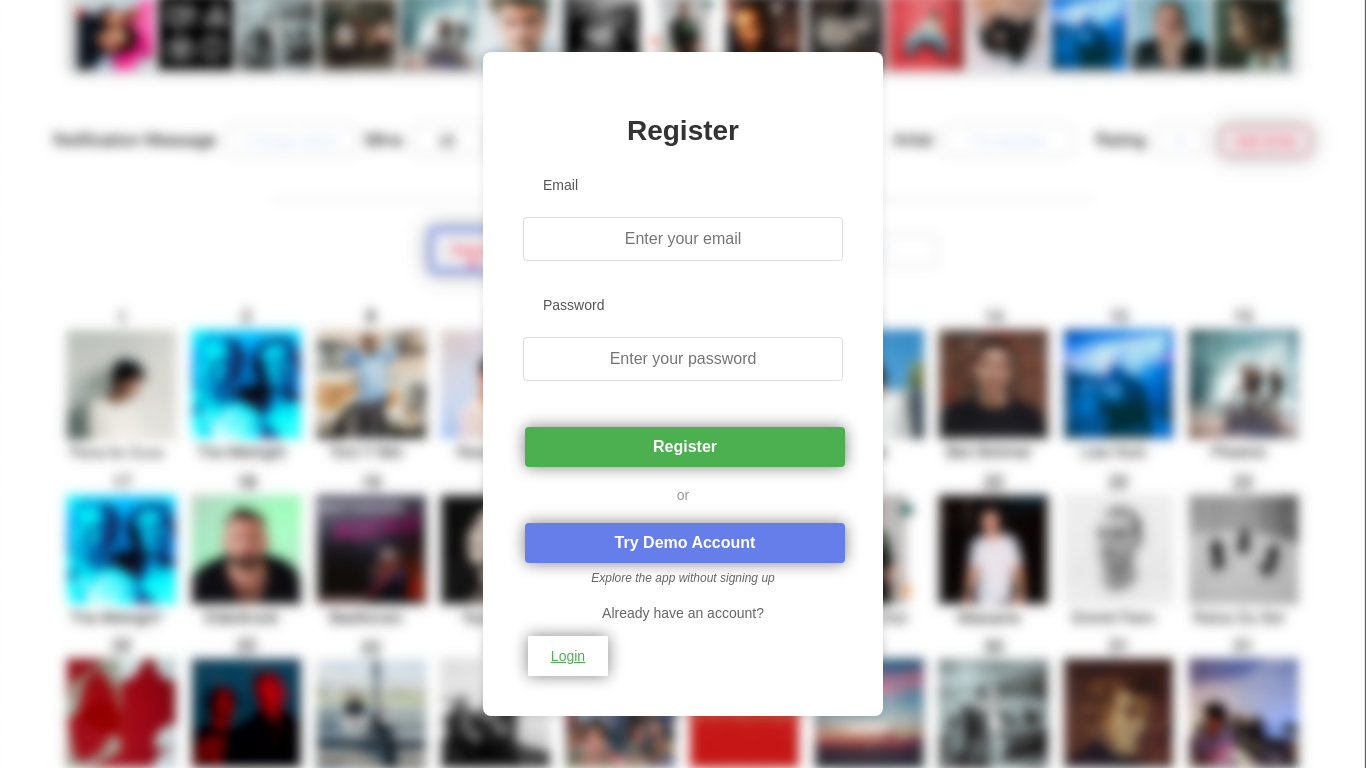
Auth › switches to Login mode, clearing the form and hiding the demo option
Type "a@b.com" into the field with placeholder "Enter your email" at (683, 239), box top-left (523, 217), bottom-right (843, 261)
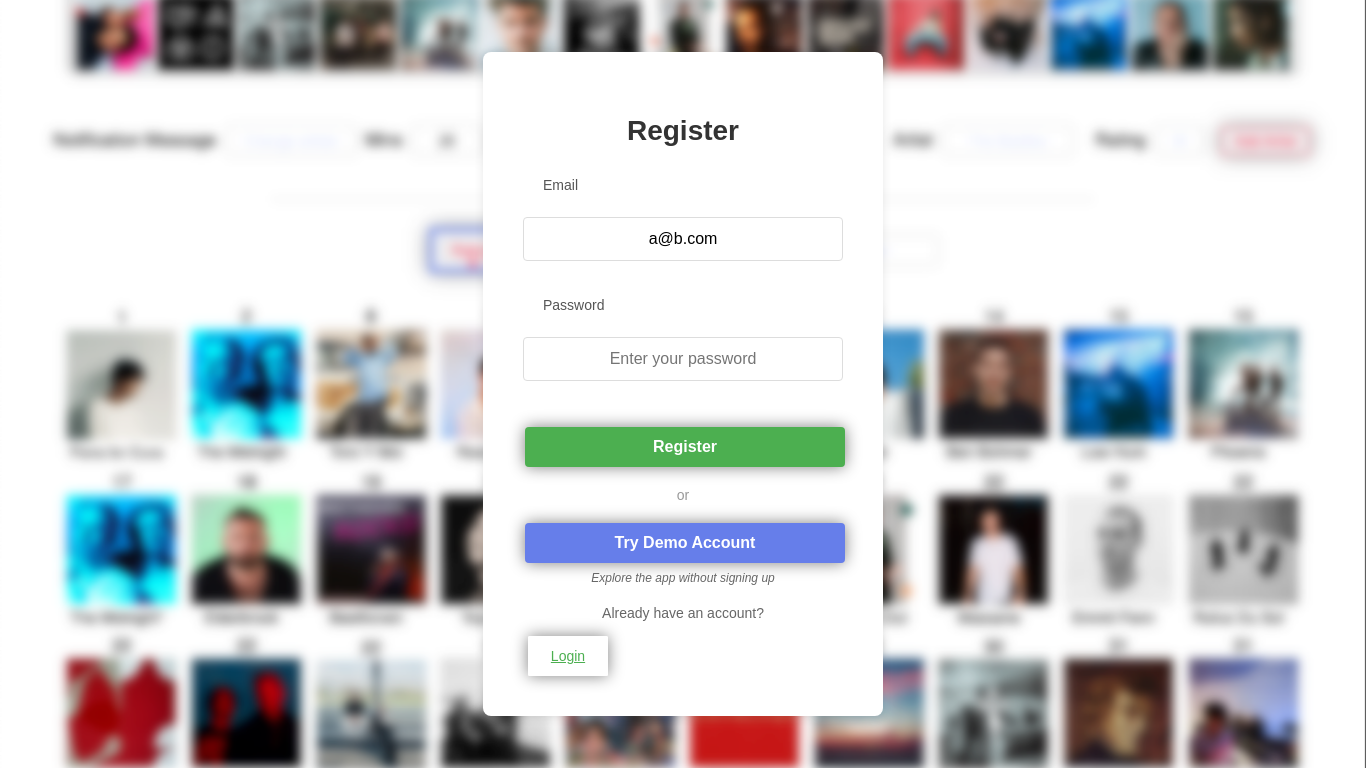
Type "secret1" into the password field with placeholder "Enter your password" at (683, 359), box top-left (523, 337), bottom-right (843, 381)
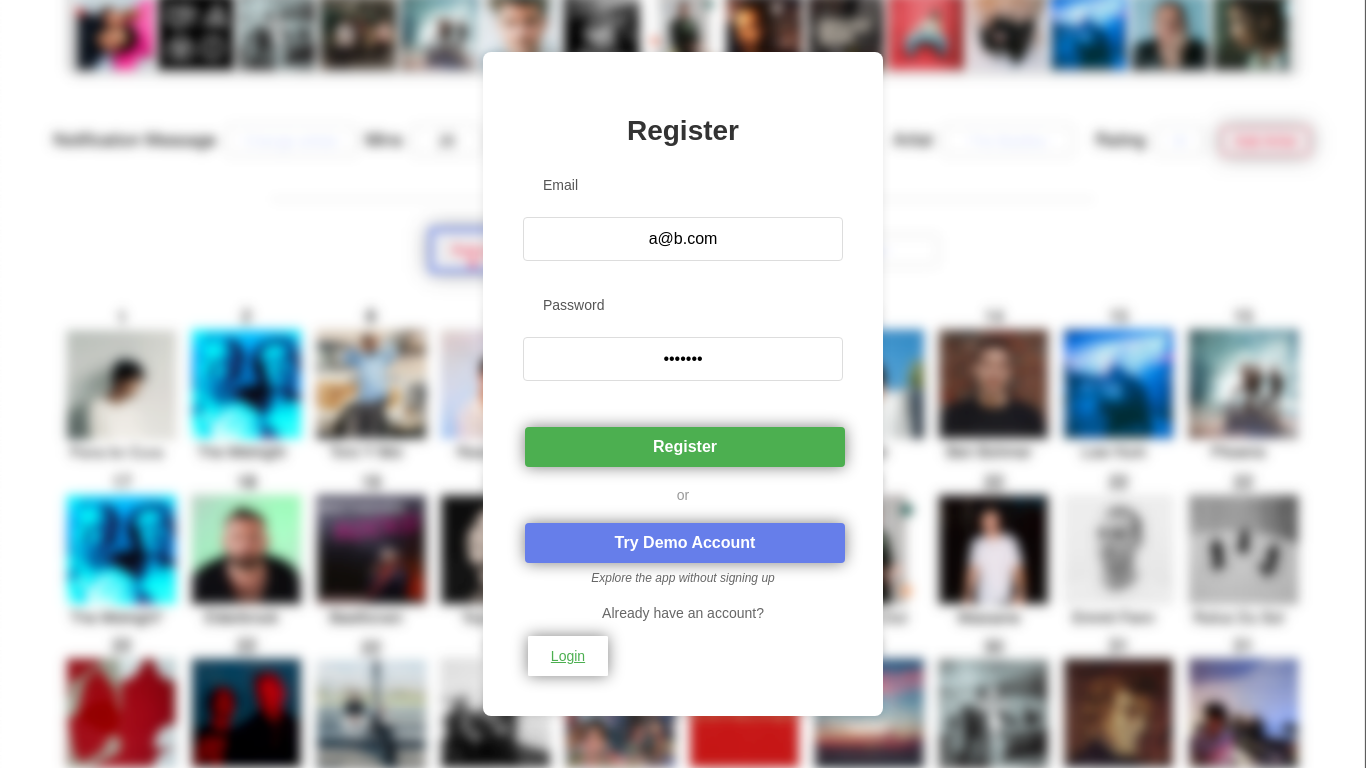
Click the button "Login" at (568, 656), box top-left (528, 636), bottom-right (608, 676)
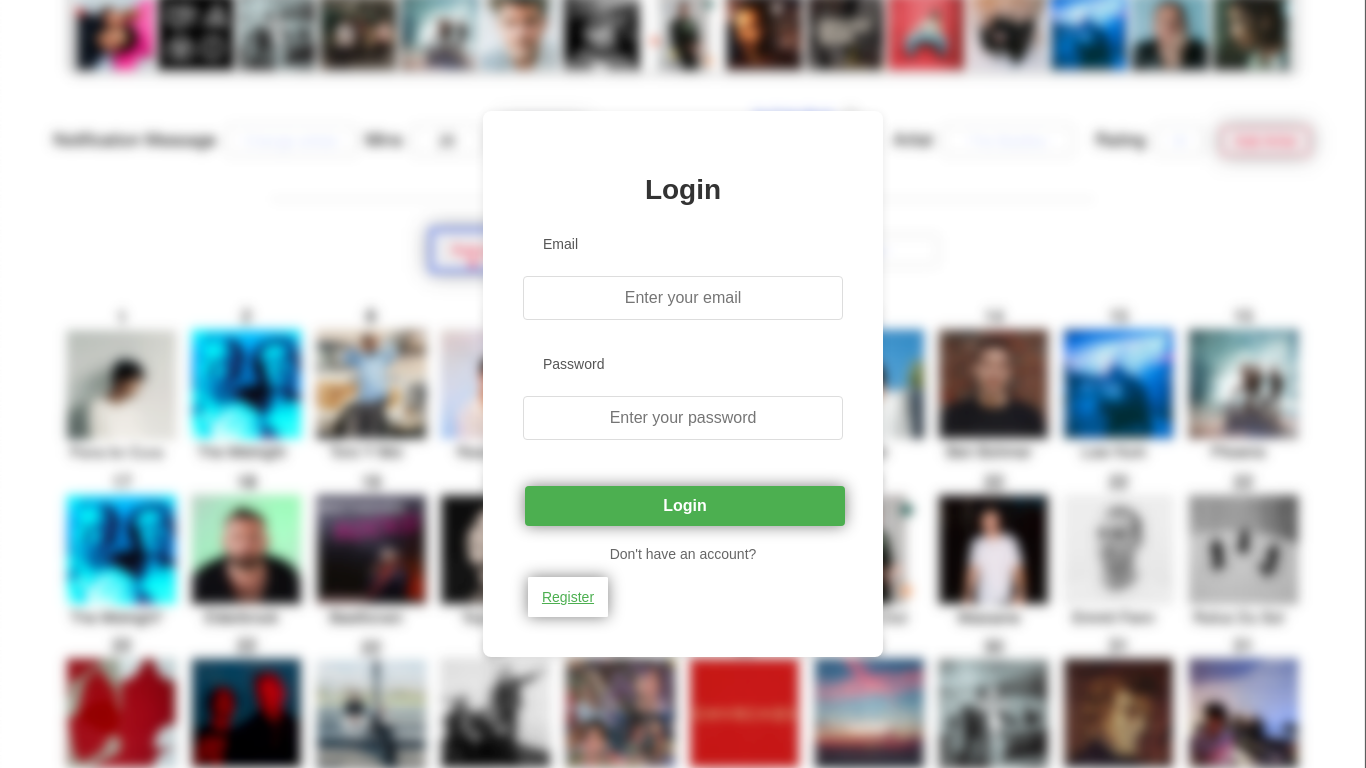
Expected: the heading "Login" is shown, top-left (645, 174), bottom-right (721, 205)
Expected: the field with placeholder "Enter your email" is empty, top-left (523, 276), bottom-right (843, 320)
Expected: the button "Try Demo Account" is gone
Click the button "Register" at (568, 597), box top-left (528, 577), bottom-right (608, 617)
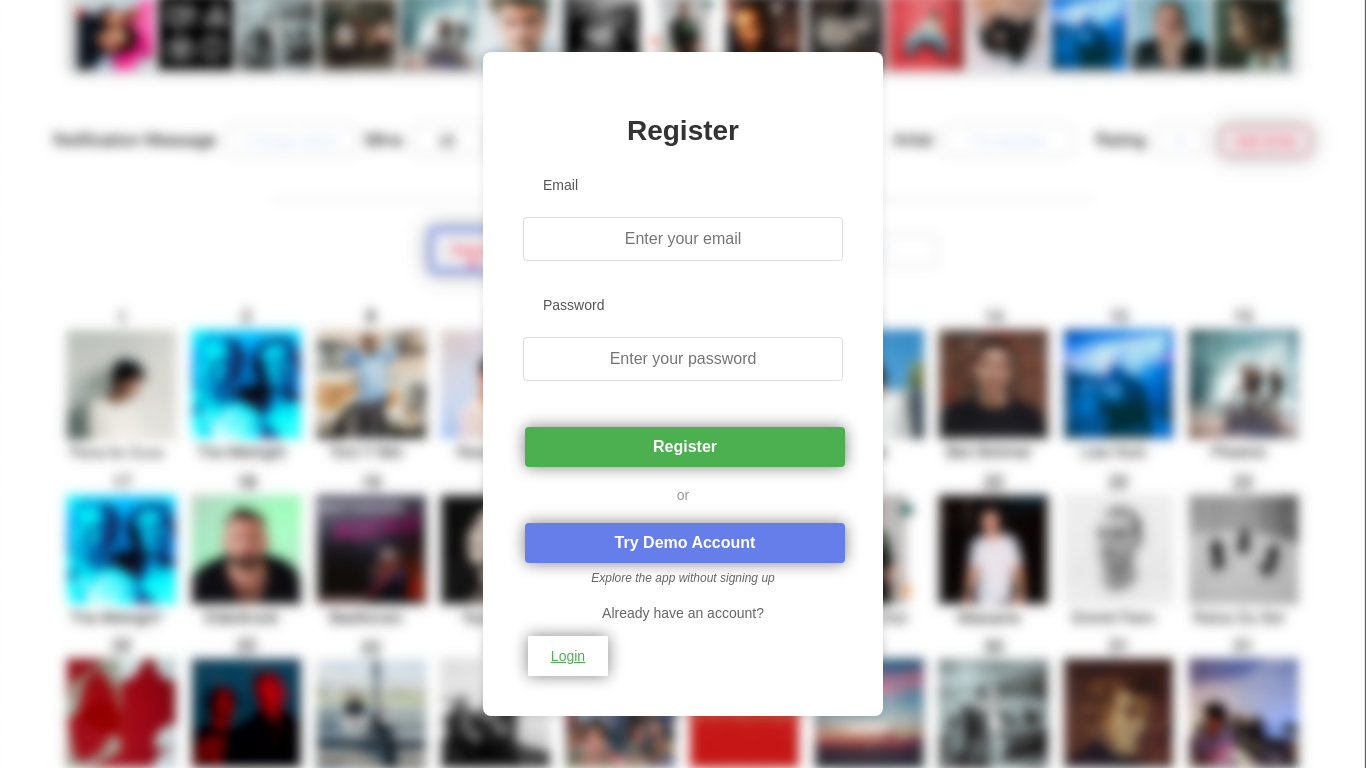
Expected: the heading "Register" is shown, top-left (627, 115), bottom-right (739, 146)
